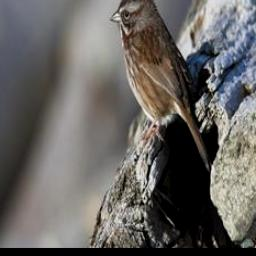Sparrow: (109, 0, 211, 174)
